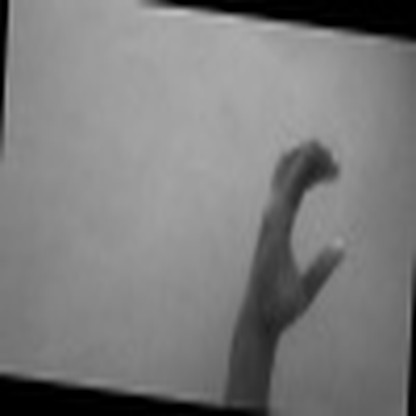c: (244, 133, 354, 336)
